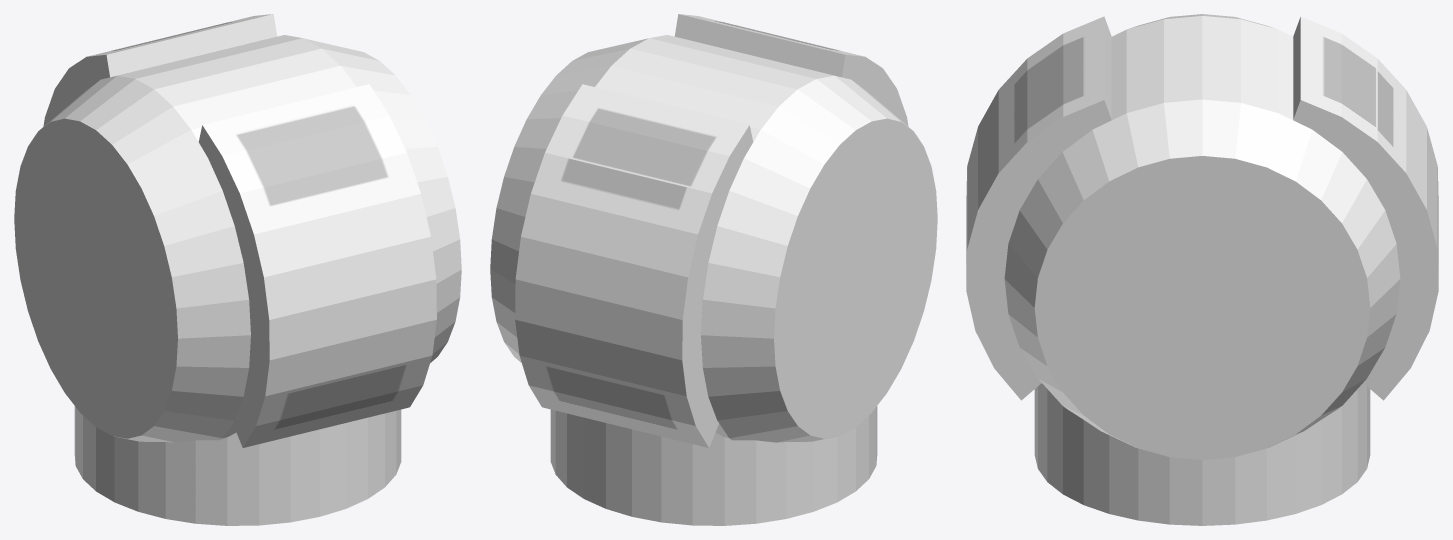
The model's file is joint_v3_0.dae.
3 renders of one model, left to right at view 1: azimuth 30°, elevation 25°; view 2: azimuth 150°, elevation 25°; view 3: azimuth 270°, elevation 25°, orthographic. The views are drawn at different scales.
Parts seen in each view (by area): view 1: Cylinder; view 2: Cylinder; view 3: Cylinder.
Part boxes in pixels (x1,y1,x2,y2): Cylinder: (14,14,461,525); Cylinder: (490,14,937,525); Cylinder: (966,14,1438,525).
Bounding box in the file's own units: 0.35 × 0.4927 × 0.4572.
1 material, 1 textured.
